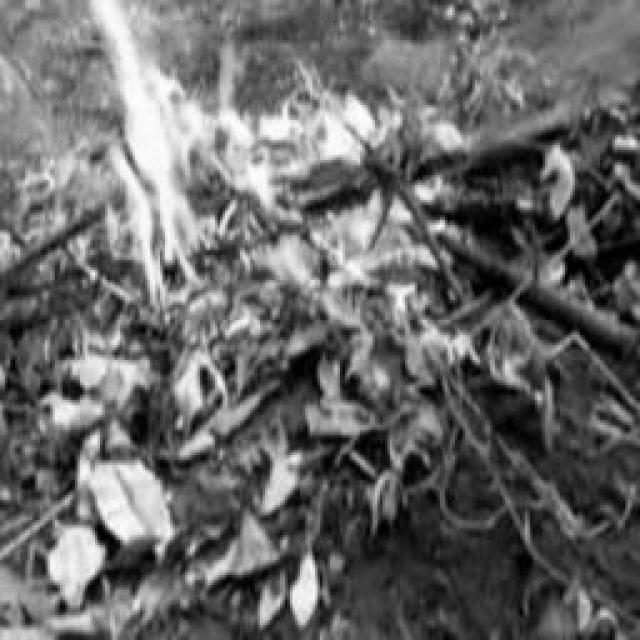Fire: (81, 0, 330, 296)
